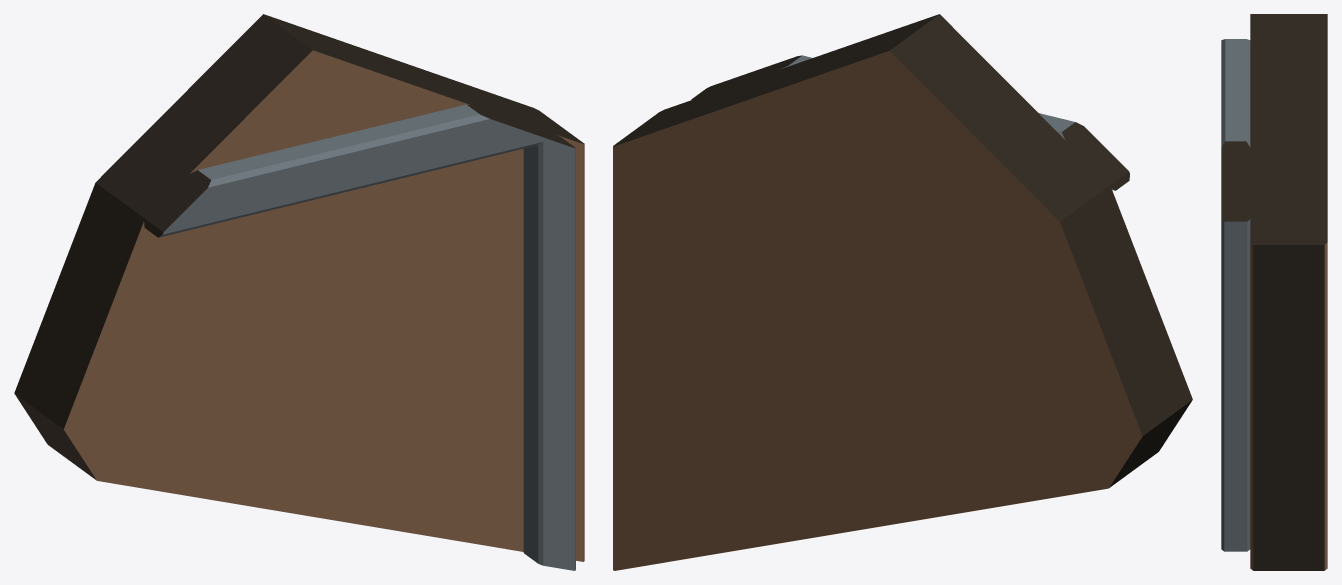
File: SM_DoorShard_02_44.fbx
3 views of the same model, side by side, from view 1: azimuth 30°, elevation 25°; view 2: azimuth 150°, elevation 25°; view 3: azimuth 270°, elevation 25° (orthographic). The views are drawn at different scales.
Parts seen in each view (by area): view 1: SM_DoorShard_02_44; view 2: SM_DoorShard_02_44; view 3: SM_DoorShard_02_44.
Part boxes in pixels (left/top/right/bottom): SM_DoorShard_02_44: left=14, top=14, right=584, bottom=570; SM_DoorShard_02_44: left=613, top=14, right=1192, bottom=570; SM_DoorShard_02_44: left=1221, top=14, right=1327, bottom=570.
Bounding box in the file's own units: 97.65 × 22 × 103.
